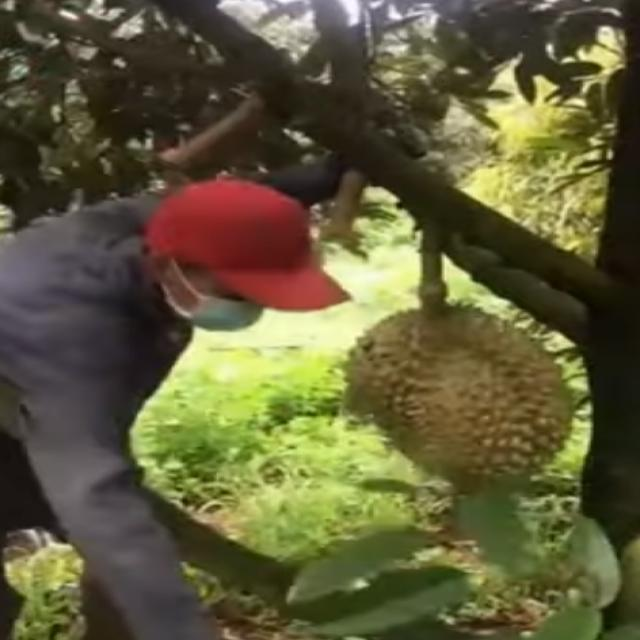mature: (330, 304, 574, 486)
